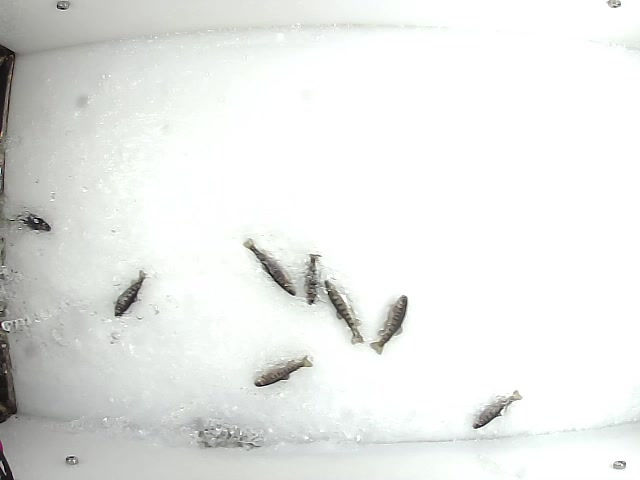fish: (238, 236, 298, 296), (323, 277, 366, 346), (367, 292, 410, 356), (252, 354, 318, 390), (469, 389, 523, 432), (110, 267, 149, 319), (7, 208, 52, 235), (301, 250, 322, 306)
